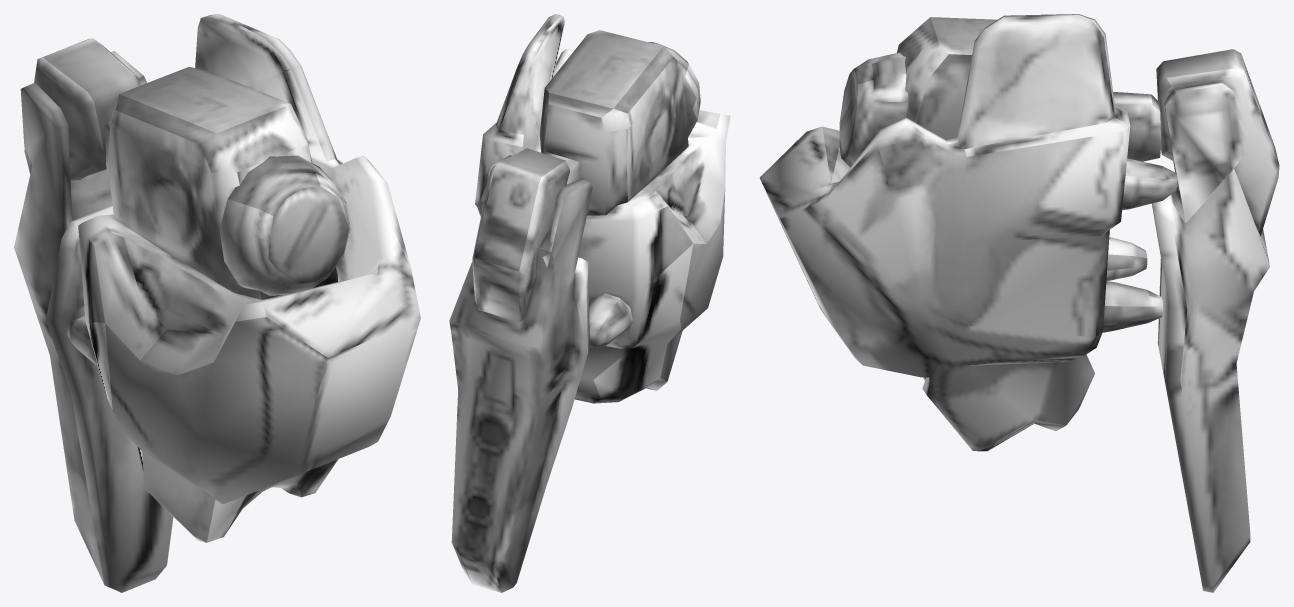
The model's file is l_thigh.glb.
3 renders of one model, left to right at view 1: azimuth 30°, elevation 25°; view 2: azimuth 150°, elevation 25°; view 3: azimuth 270°, elevation 25°, orthographic. The views are drawn at different scales.
Visible parts, largest first — view 1: l_thigh; view 2: l_thigh; view 3: l_thigh.
Part boxes in pixels (x1,y1,x2,y2): l_thigh: (14, 14, 420, 592); l_thigh: (449, 14, 730, 592); l_thigh: (759, 14, 1279, 592).
Bounding box in the file's own units: 1.33 × 3.39 × 2.74.
3 materials, 3 textured.
